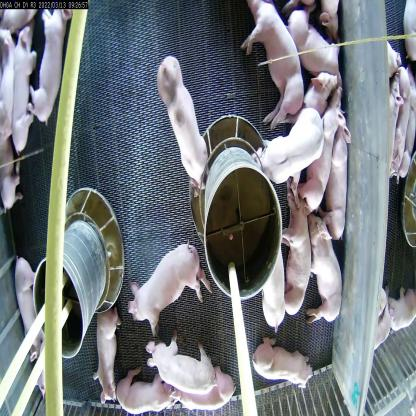Pig: (238, 0, 304, 129), (158, 50, 210, 192), (126, 244, 207, 327), (297, 84, 345, 217), (148, 330, 219, 416), (255, 107, 325, 187), (30, 4, 70, 127), (277, 185, 312, 318), (307, 200, 344, 324), (90, 306, 127, 402), (328, 102, 353, 238), (118, 361, 179, 416), (12, 254, 42, 361), (171, 372, 243, 415), (261, 338, 317, 392), (12, 30, 34, 154), (264, 247, 288, 328), (301, 63, 335, 116), (388, 72, 399, 178)
